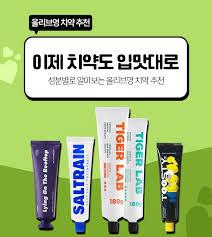toothpaste: (93, 105, 126, 237), (62, 132, 97, 233), (152, 140, 188, 235), (28, 136, 62, 233), (126, 119, 148, 237)
